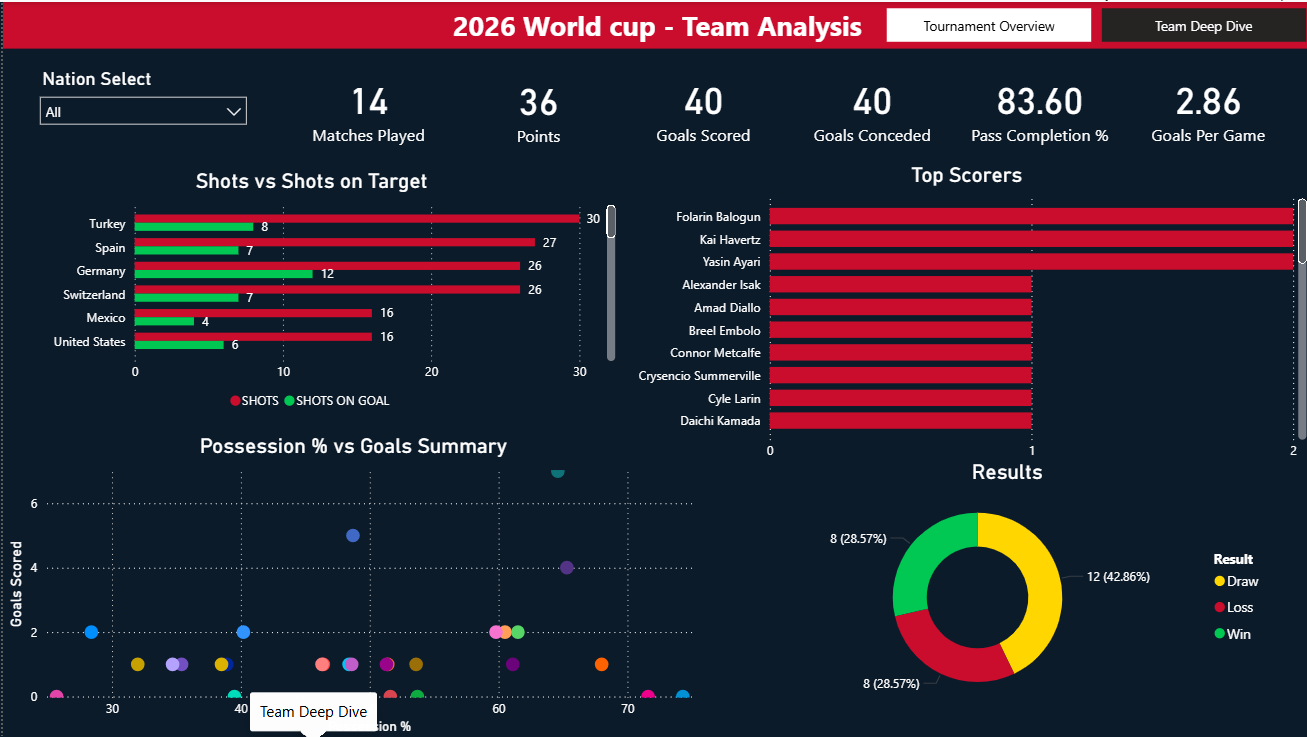

Layout of this report page (visuals, bound fields, positions):
{"tool":"powerbi","page":{"name":"Team Deep Dive","canvas":[1280,720],"ordinal":1},"visuals":[{"type":"textbox","box":[0,0,1280.3,45.2],"z":0},{"type":"PBI_CV_7B952816_A48F_49B4_9E13_15E3BB2C0337","fields":{"Values":["_measures.Total Matches Played"]},"box":[276.4,59.9,163.9,96.6],"z":1000},{"type":"PBI_CV_7B952816_A48F_49B4_9E13_15E3BB2C0337","fields":{"Values":["_measures.Total Goals"]},"box":[604.3,59.9,163.9,96.6],"z":2000},{"type":"clusteredBarChart","title":"Shots vs Shots on Target","fields":{"Category":["wc2026_match_stats.team"],"Y":["Sum(wc2026_match_stats.SHOTS)","Sum(wc2026_match_stats.ON GOAL)"]},"box":[0,162.6,604.1,245.8],"z":3000},{"type":"PBI_CV_7B952816_A48F_49B4_9E13_15E3BB2C0337","fields":{"Values":["_measures.Goals Per Game"]},"box":[1097.1,59.9,165.4,95.8],"z":4000},{"type":"PBI_CV_7B952816_A48F_49B4_9E13_15E3BB2C0337","fields":{"Values":["_measures.Goals Conceded"]},"box":[768.6,59.9,163.9,96.6],"z":5000},{"type":"scatterChart","title":"Possession % vs Goals Summary","fields":{"X":["Avg(wc2026_team_stats_avg.Possession)"],"Series":["wc2026_team_stats_avg.team"],"Y":["wc2026_goals_summary.goals_scored"]},"box":[0,421.3,686.1,299.1],"z":6000},{"type":"PBI_CV_7B952816_A48F_49B4_9E13_15E3BB2C0337","fields":{"Values":["_measures.Pass Completion %"]},"box":[932.9,59.9,163.9,96.6],"z":7000},{"type":"clusteredBarChart","title":"Top Scorers","fields":{"Category":["wc2026_goals_detail.scorer"],"Y":["_measures.Goals Scored"]},"box":[605.3,156.5,675,300.8],"z":8000},{"type":"donutChart","title":"Results","fields":{"Category":["wc2026_team_matches.result_type"],"Y":["CountNonNull(wc2026_team_matches.result_type)"]},"box":[717.8,447.6,529.5,247],"z":9000},{"type":"pageNavigator","box":[864.5,6.1,410.9,33],"z":10000},{"type":"slicer","title":"Nation Select","fields":{"Values":["wc2026_teams.team"]},"box":[25.7,59.9,222.6,79.5],"z":11000},{"type":"PBI_CV_7B952816_A48F_49B4_9E13_15E3BB2C0337","fields":{"Values":["Sum(wc2026_standings.points)"]},"box":[442.1,60.8,163.7,95.9],"z":12000}]}

Visuals, with their boxes in screenshot pixels (x1, y1, x2, y2), scaled from the page's 1280x720 canvas onto the 1307x737 screenshot:
textbox: bbox(0, 0, 1306, 46)
PBI_CV_7B952816_A48F_49B4_9E13_15E3BB2C0337 - _measures.Total Matches Played: bbox(282, 61, 450, 160)
PBI_CV_7B952816_A48F_49B4_9E13_15E3BB2C0337 - _measures.Total Goals: bbox(617, 61, 784, 160)
"Shots vs Shots on Target" clusteredBarChart: bbox(0, 166, 617, 418)
PBI_CV_7B952816_A48F_49B4_9E13_15E3BB2C0337 - _measures.Goals Per Game: bbox(1120, 61, 1289, 159)
PBI_CV_7B952816_A48F_49B4_9E13_15E3BB2C0337 - _measures.Goals Conceded: bbox(785, 61, 952, 160)
"Possession % vs Goals Summary" scatterChart: bbox(0, 431, 701, 736)
PBI_CV_7B952816_A48F_49B4_9E13_15E3BB2C0337 - _measures.Pass Completion %: bbox(953, 61, 1120, 160)
"Top Scorers" clusteredBarChart: bbox(618, 160, 1306, 468)
"Results" donutChart: bbox(733, 458, 1274, 711)
pageNavigator: bbox(883, 6, 1302, 40)
"Nation Select" slicer: bbox(26, 61, 254, 143)
PBI_CV_7B952816_A48F_49B4_9E13_15E3BB2C0337 - Sum(wc2026_standings.points): bbox(451, 62, 619, 160)
